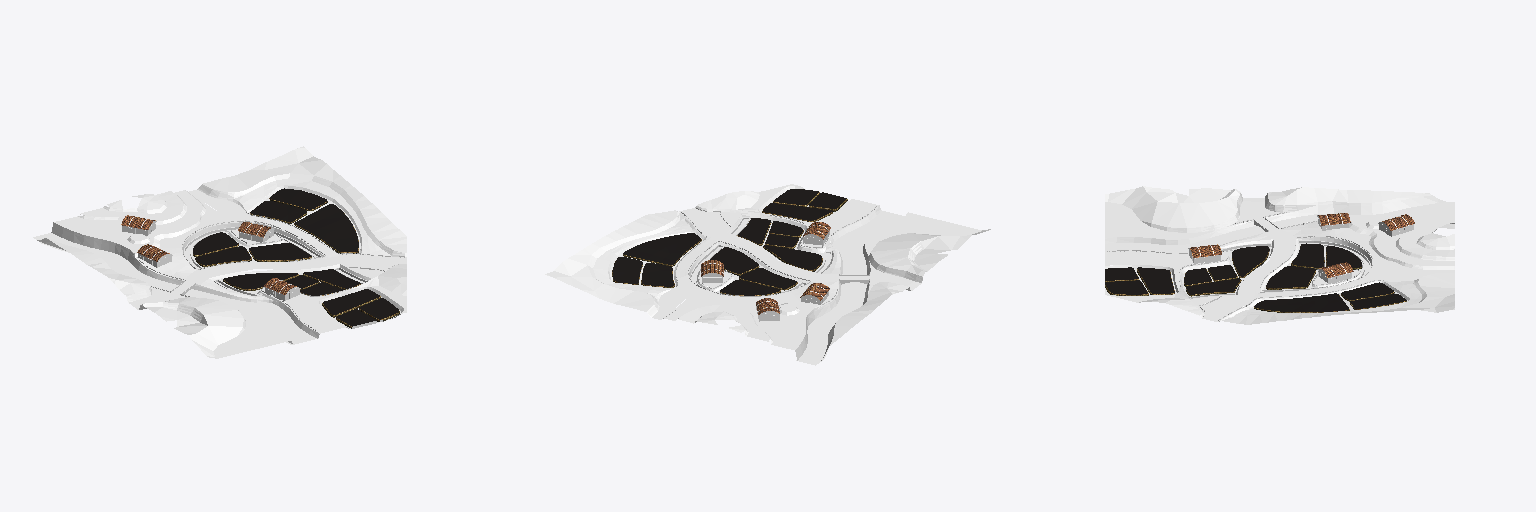
The picture shows the model from 3 angles: view 1: azimuth 30°, elevation 25°; view 2: azimuth 150°, elevation 25°; view 3: azimuth 270°, elevation 25°; orthographic projection.
Visible parts, largest first — view 1: Object.122, Object.131, Object.114, Object.110, Object.128, Object.130; view 2: Object.122, Object.131, Object.114, Object.110; view 3: Object.122, Object.131, Object.110, Object.114, Object.128, Object.130.
Boxes of the visible parts, x1=… form: Object.122: x1=37, y1=146, x2=406, y2=358; Object.131: x1=193, y1=188, x2=399, y2=328; Object.114: x1=33, y1=230, x2=364, y2=344; Object.110: x1=142, y1=192, x2=406, y2=303; Object.128: x1=184, y1=227, x2=367, y2=296; Object.130: x1=137, y1=211, x2=404, y2=330; Object.122: x1=545, y1=184, x2=990, y2=360; Object.131: x1=612, y1=189, x2=847, y2=295; Object.114: x1=691, y1=210, x2=904, y2=365; Object.110: x1=658, y1=209, x2=908, y2=316; Object.122: x1=1105, y1=186, x2=1454, y2=324; Object.131: x1=1105, y1=243, x2=1406, y2=312; Object.110: x1=1206, y1=202, x2=1448, y2=320; Object.114: x1=1105, y1=202, x2=1452, y2=276; Object.128: x1=1189, y1=240, x2=1370, y2=298; Object.130: x1=1107, y1=212, x2=1383, y2=320.
Bounding box in the file's own units: 185 × 16.13 × 208.
Materials: 13 (3 with a texture image).